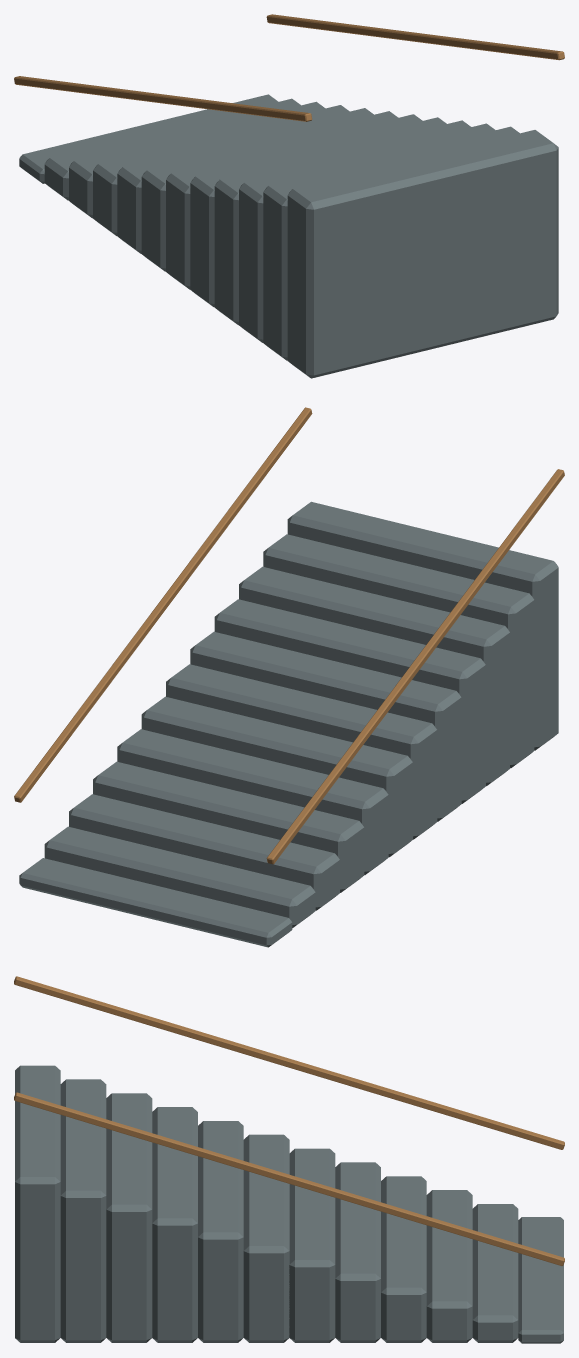
The model's file is stairs.lod0.glb.
3 renders of one model, top to bottom at view 1: azimuth 30°, elevation 25°; view 2: azimuth 150°, elevation 25°; view 3: azimuth 270°, elevation 25°, orthographic. The views are drawn at different scales.
Parts seen in each view (by area): view 1: structure; view 2: structure; view 3: structure.
Boxes of the visible parts, x1=… form: structure: x1=14, y1=14, x2=564, y2=378; structure: x1=14, y1=407, x2=564, y2=947; structure: x1=14, y1=976, x2=564, y2=1343.
Bounding box in the file's own units: 3.08 × 3.03 × 6.02.
